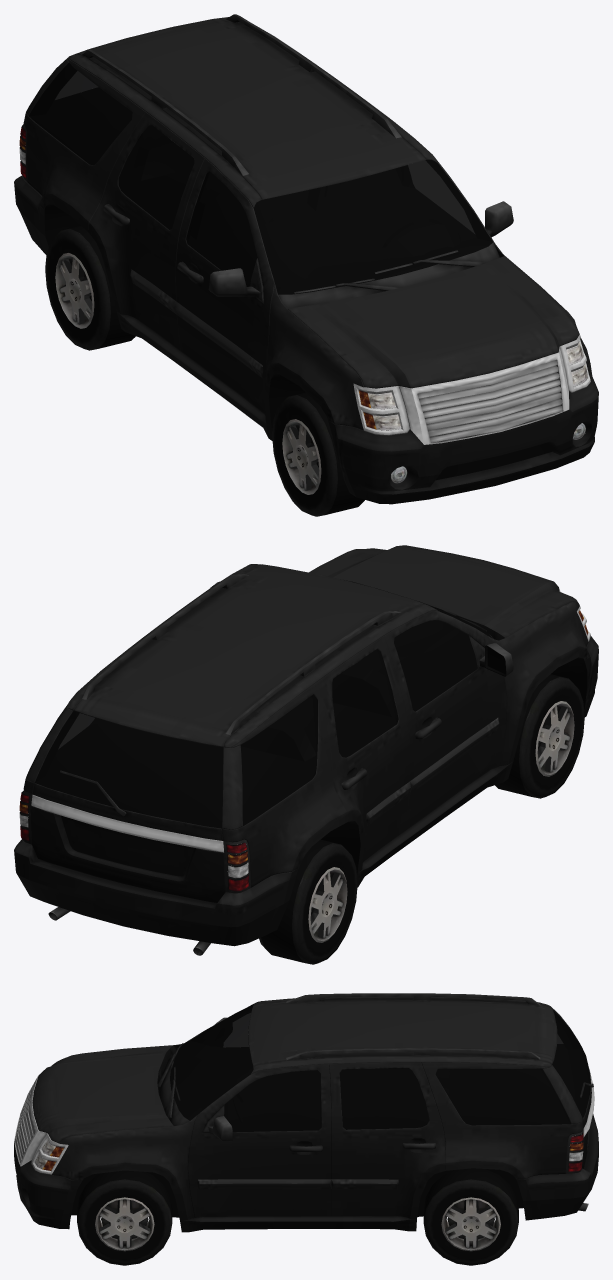
Rendered from cmp_suv.glb.
3 renders of one model, top to bottom at view 1: azimuth 30°, elevation 25°; view 2: azimuth 150°, elevation 25°; view 3: azimuth 270°, elevation 25°, orthographic. The views are drawn at different scales.
Parts seen in each view (by area): view 1: SUV Body, Wheel_E003, Wheel_E002; view 2: SUV Body, Wheel_E003, Wheel_E002; view 3: SUV Body, Wheel_E001, Wheel_E.
Boxes of the visible parts, x1,y1,x2,y2 form: SUV Body: [14, 14, 598, 504]; Wheel_E003: [45, 225, 135, 350]; Wheel_E002: [272, 392, 364, 516]; SUV Body: [14, 545, 598, 955]; Wheel_E003: [259, 839, 357, 964]; Wheel_E002: [495, 674, 584, 798]; SUV Body: [14, 993, 598, 1232]; Wheel_E001: [423, 1168, 518, 1265]; Wheel_E: [77, 1170, 172, 1265].
Bounding box in the file's own units: 2.07 × 1.73 × 4.61.
Materials: 4 (3 with a texture image).
